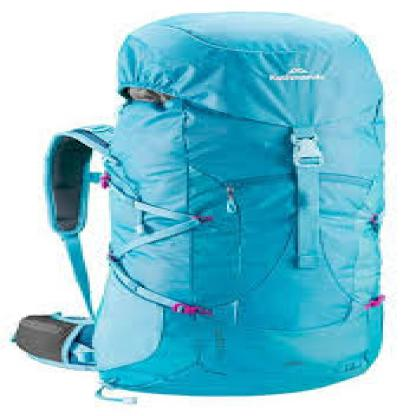morral: (12, 3, 409, 401)
